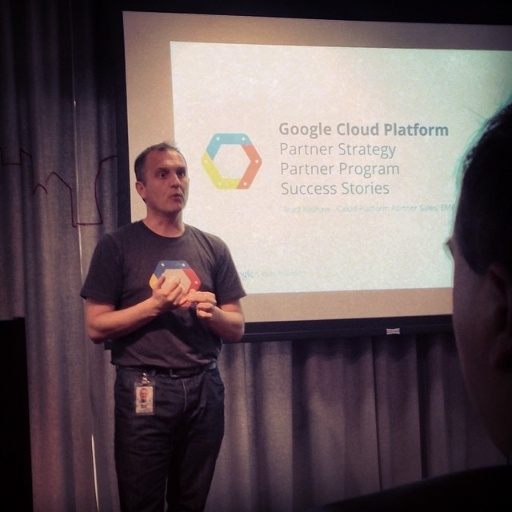hand: (149, 272, 187, 312), (184, 291, 217, 323)
